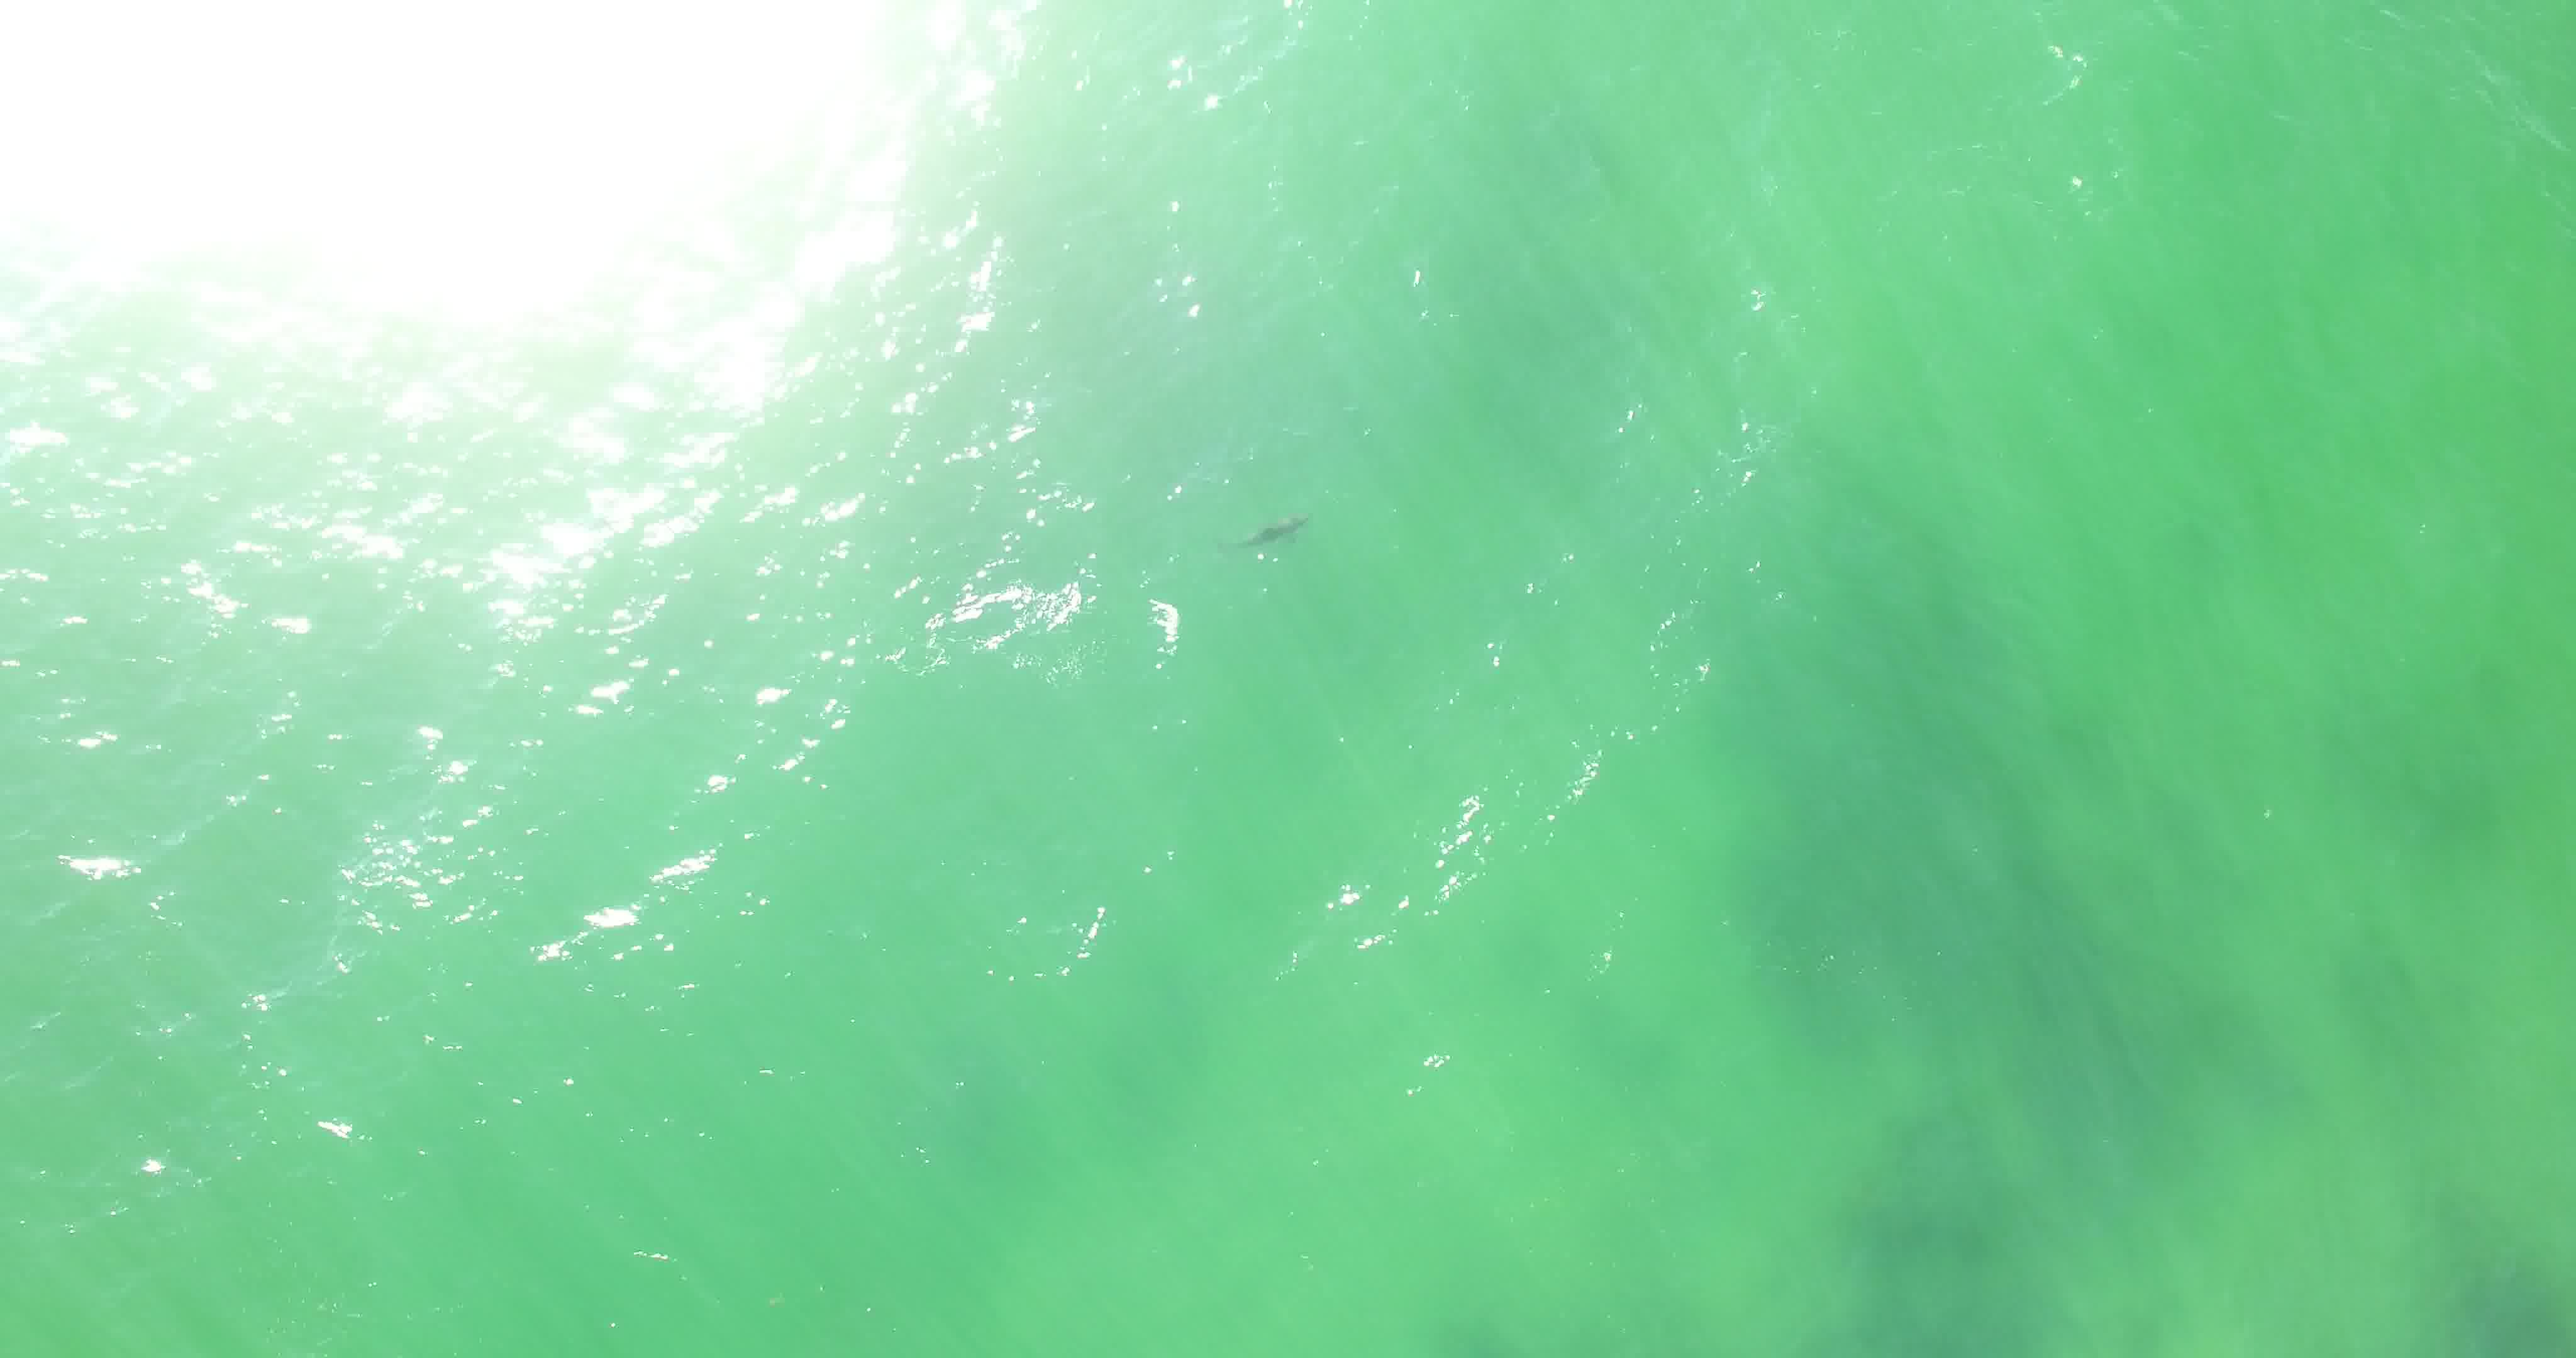dolphin: (1191, 486, 1336, 578)
